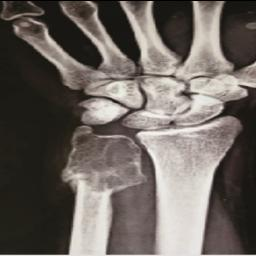cancer: (61, 125, 145, 190)
